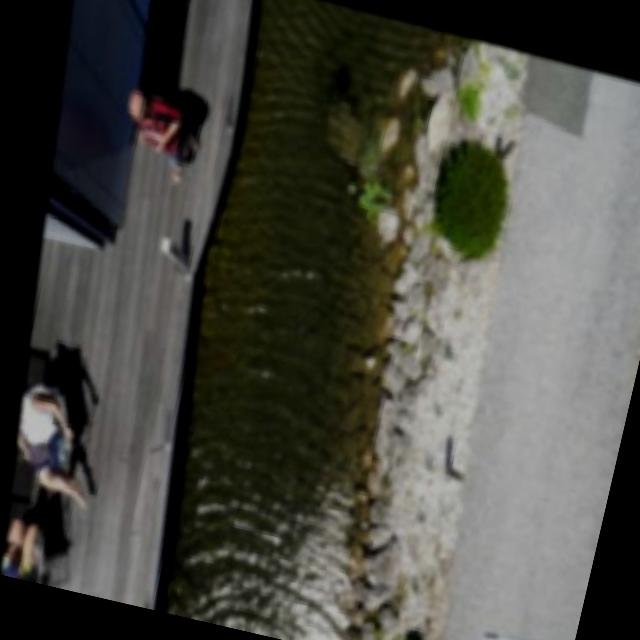Person: (0, 368, 108, 510), (101, 79, 214, 192), (0, 507, 43, 579)
